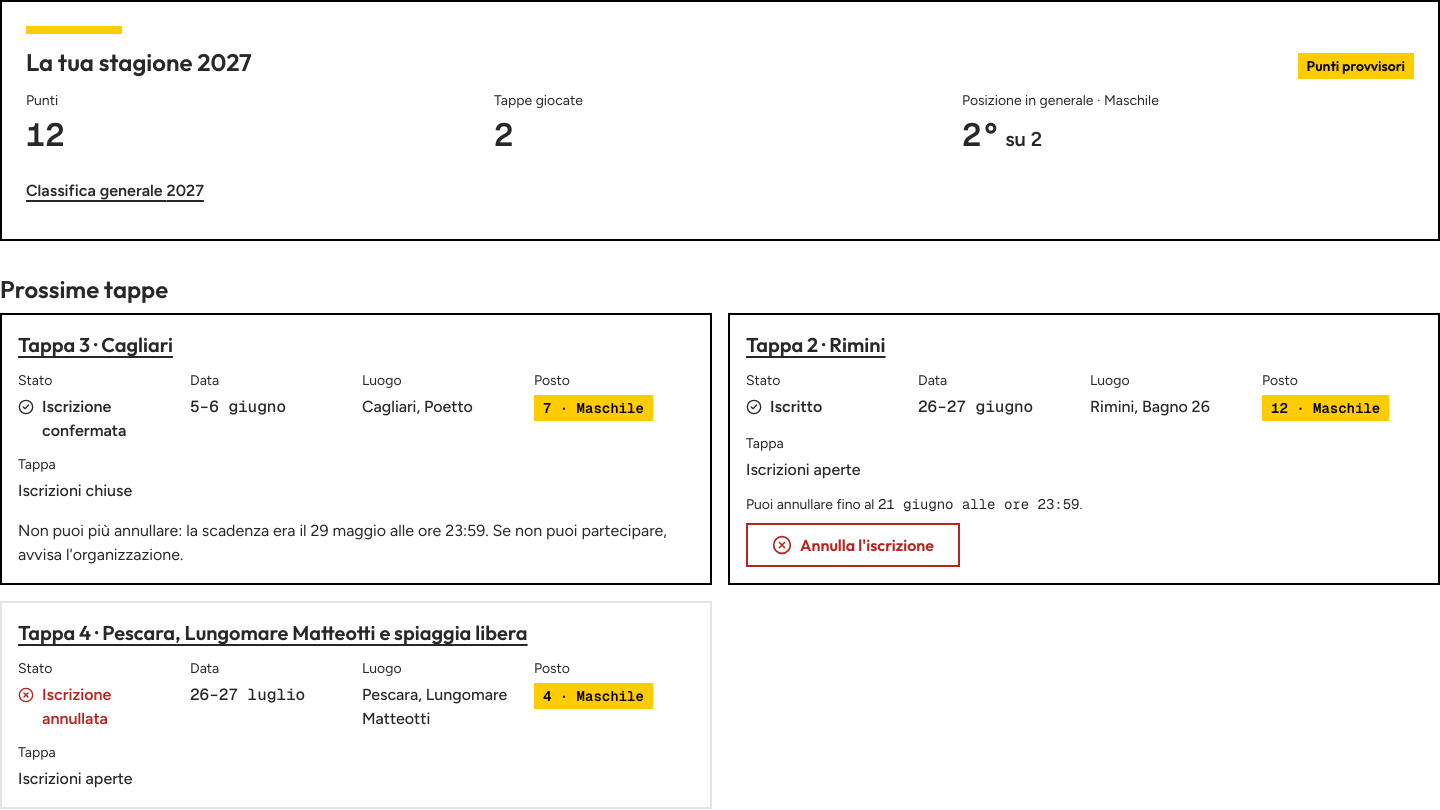
Test: MieIscrizioni › il dialog parte da «Mantieni l'iscrizione» ed elenca le conseguenze
Click the button "Annulla l'iscrizione" at (853,545), box [746, 523, 960, 567]
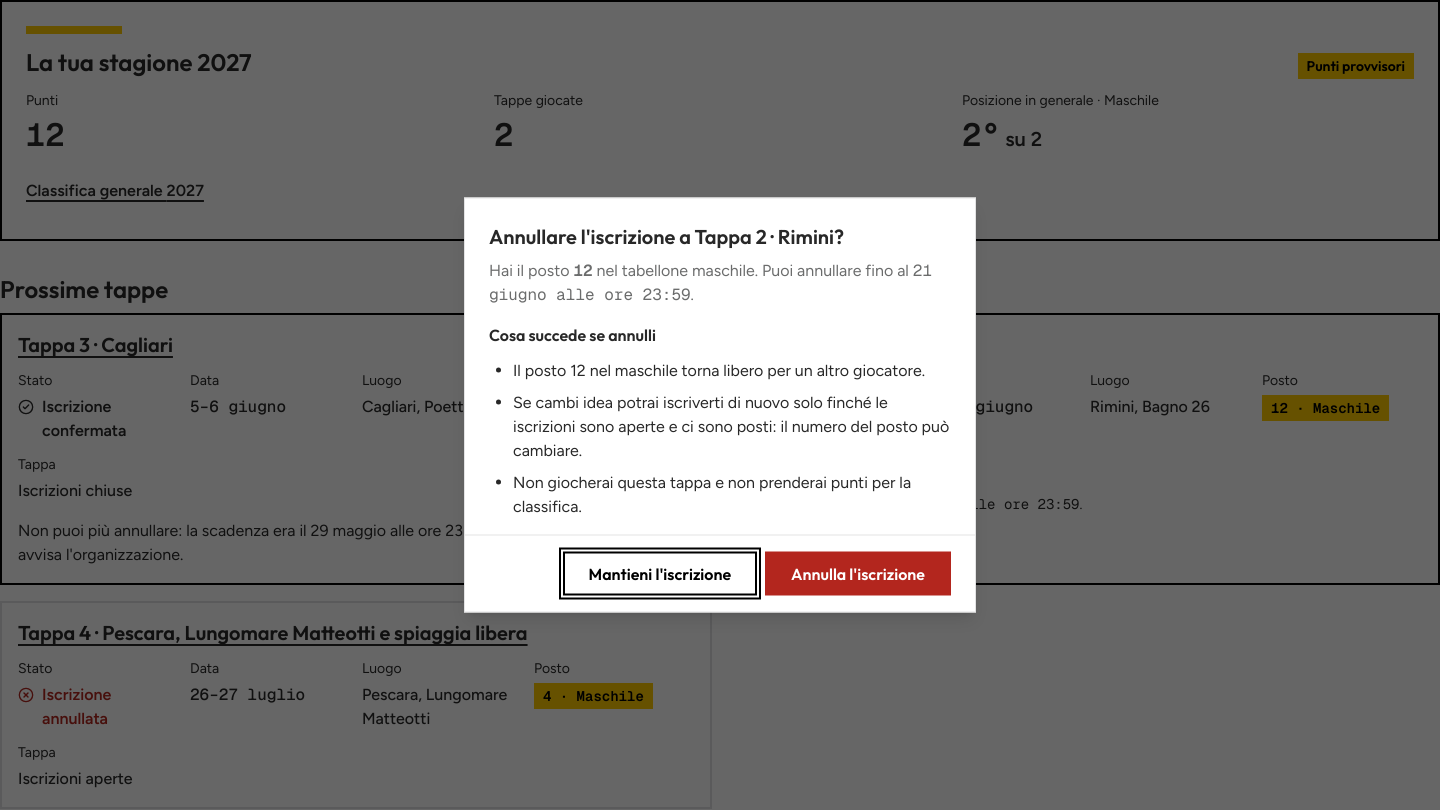
Now the list with test id "annulla-conseguenze" shows "Il posto 12 nel maschile torna libero", box [513, 360, 925, 380]
Press Escape
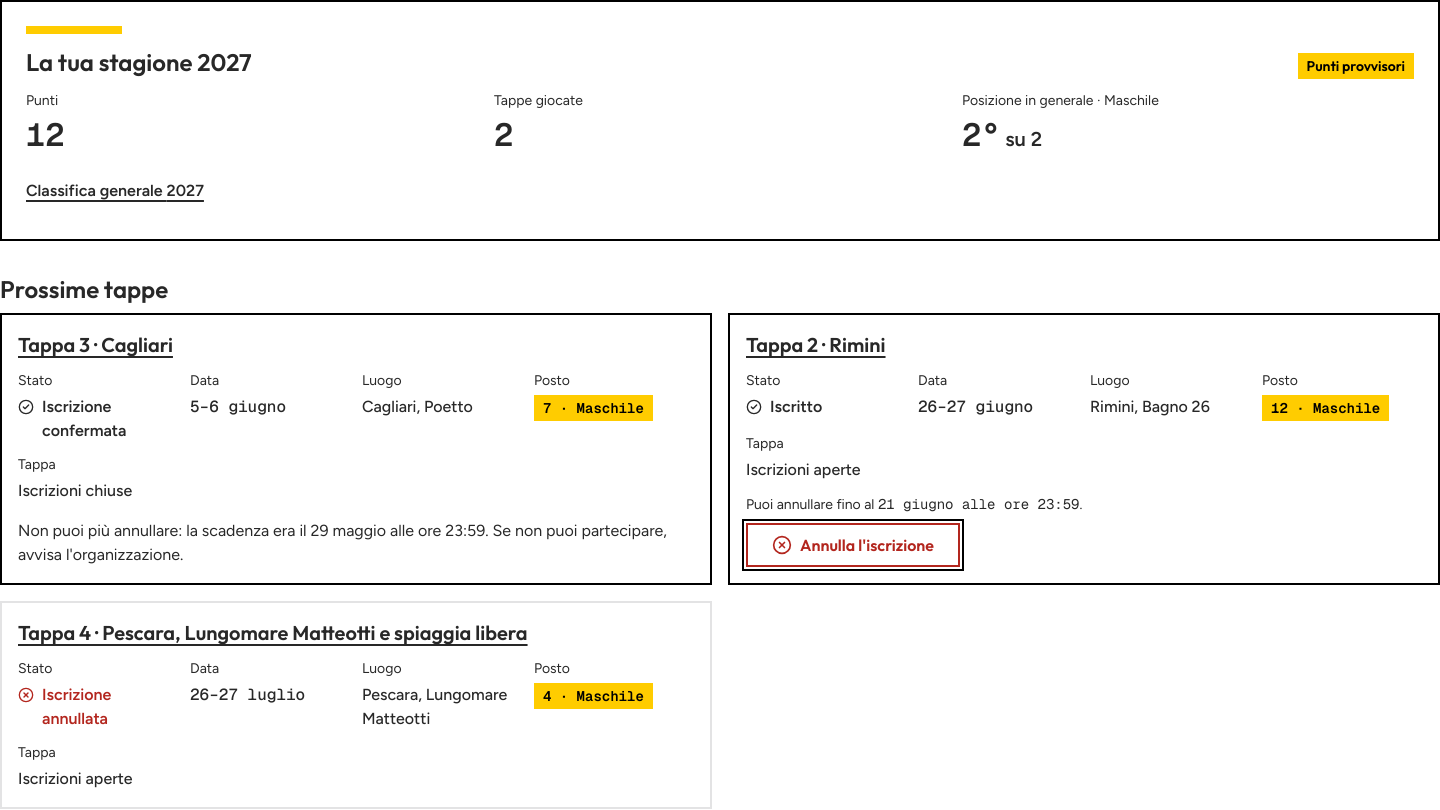
Now the dialog is gone
